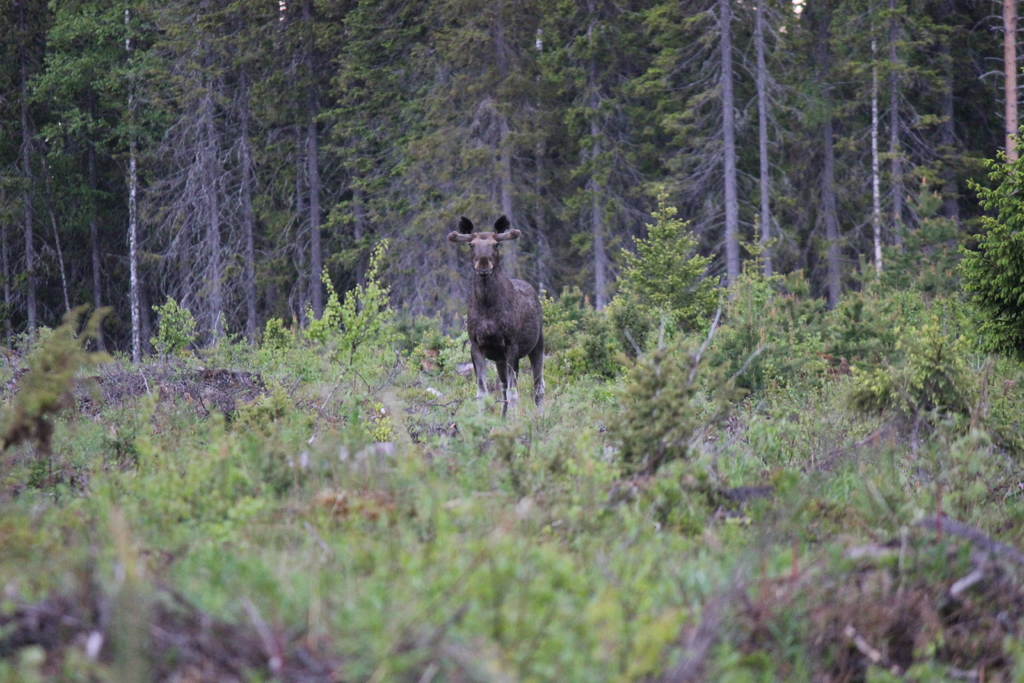Tree: (0, 0, 1023, 363)
